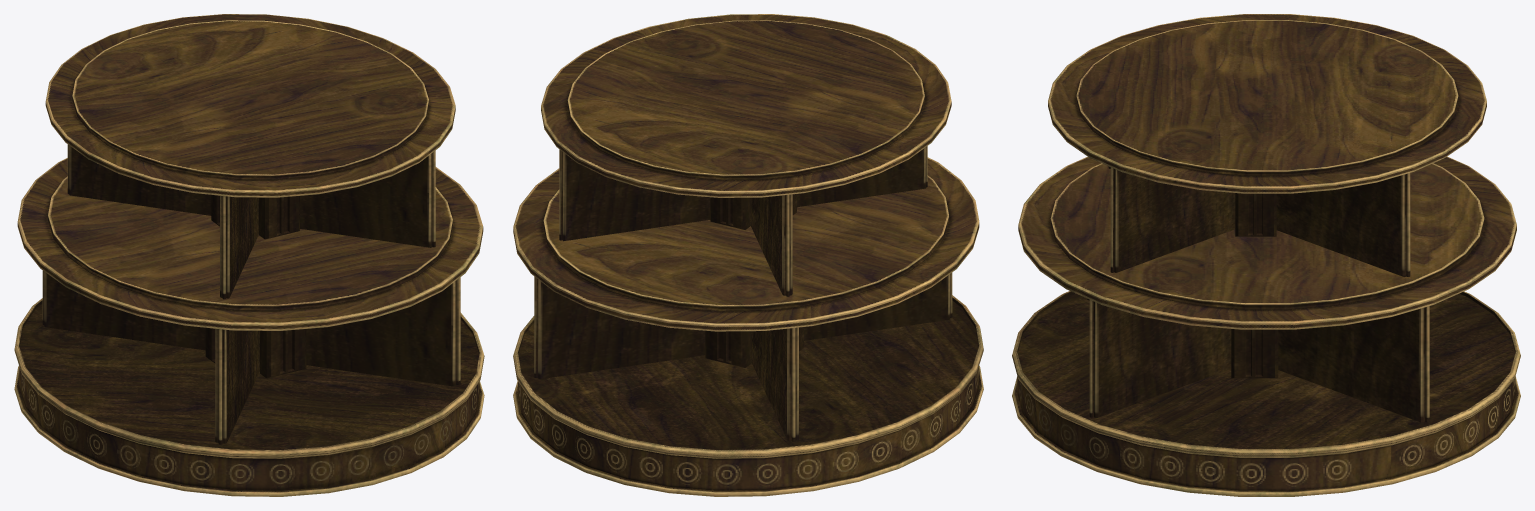
File: SM_FoodStand_2S.fbx
The picture shows the model from 3 angles, left to right: view 1: azimuth 30°, elevation 25°; view 2: azimuth 150°, elevation 25°; view 3: azimuth 270°, elevation 25°; orthographic projection. The views are drawn at different scales.
Parts seen in each view (by area): view 1: SM_FoodStand_2S_LOD0; view 2: SM_FoodStand_2S_LOD0; view 3: SM_FoodStand_2S_LOD0.
Part boxes in pixels (x1,y1,x2,y2): SM_FoodStand_2S_LOD0: [14, 14, 484, 496]; SM_FoodStand_2S_LOD0: [513, 14, 983, 496]; SM_FoodStand_2S_LOD0: [1012, 14, 1520, 496].
Bounding box in the file's own units: 51.49 × 55.71 × 36.78.
1 material, 1 textured.
